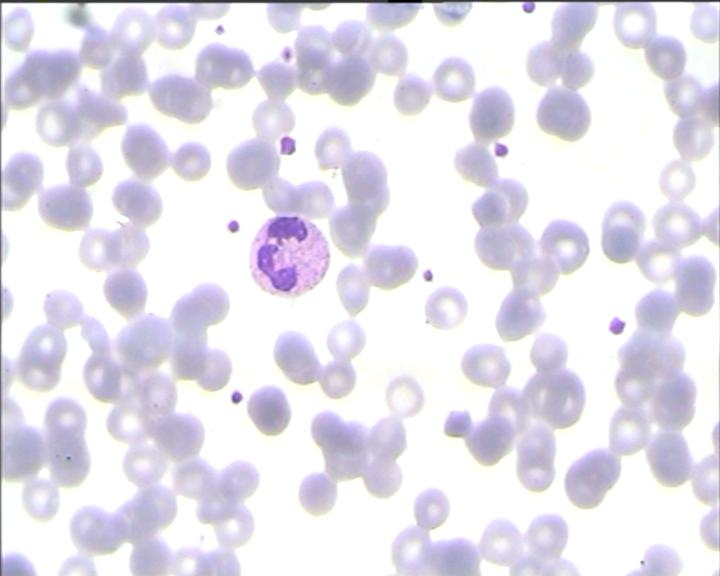neut: (246, 213, 330, 302)
